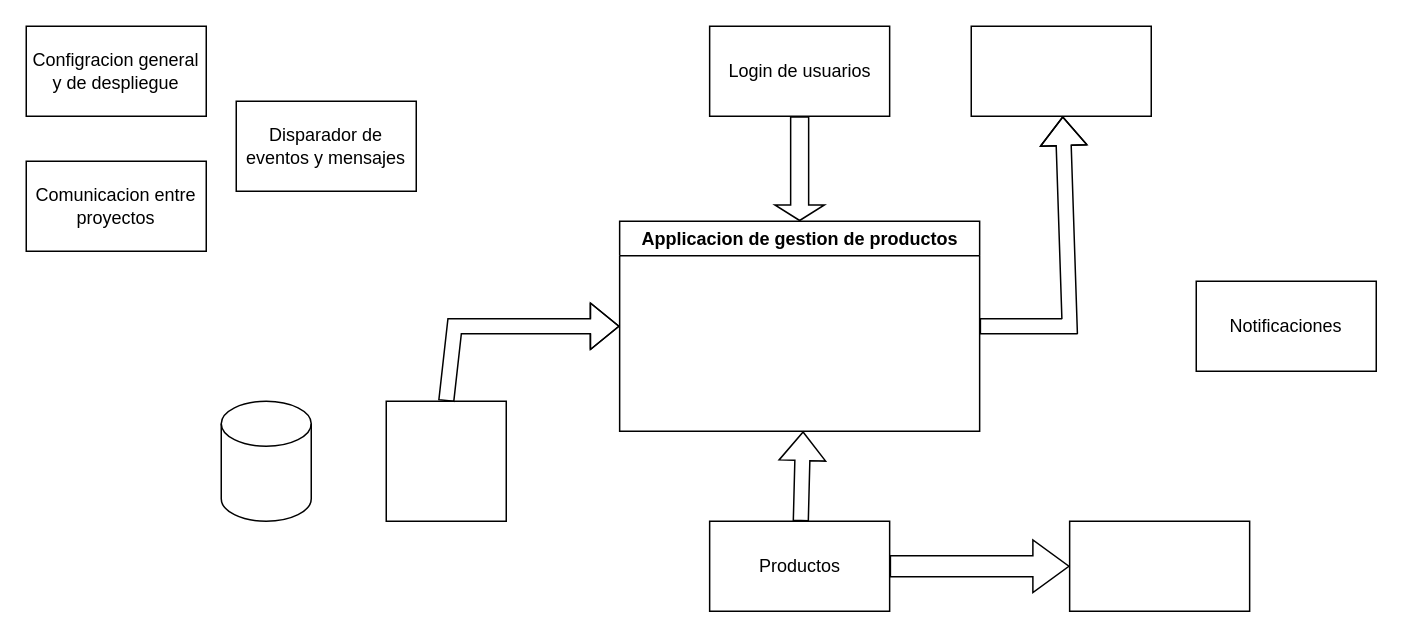
Some shapes in this 1403 by 638 pixel diagram are drawn without their labels. The shapes that lost their labels are listed below. From the top down, each one's centre as x and y in pixels, then its label:
At [1060,70]: "Crear un usuario".
At [265,460]: "Base de datos".
At [445,460]: "Usuarios y gestion de roles y permisos".
At [1159,565]: "Booking".
